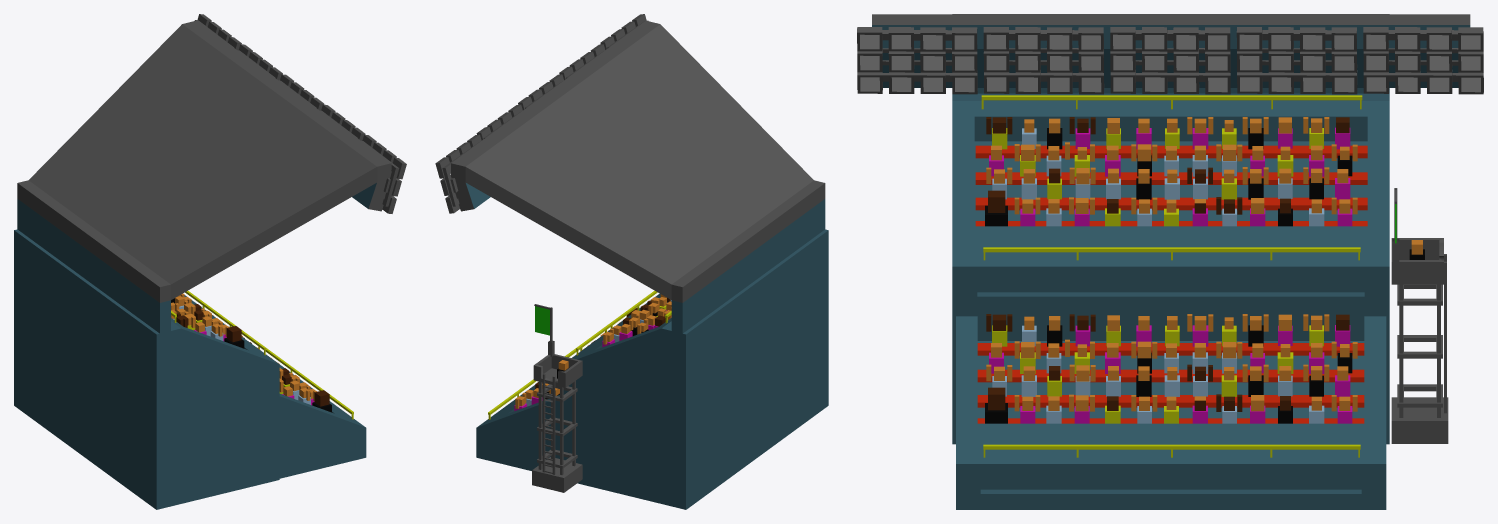
Rendered from Stadium_05.obj.
The picture shows the model from 3 angles, left to right: view 1: azimuth 30°, elevation 25°; view 2: azimuth 150°, elevation 25°; view 3: azimuth 270°, elevation 25°; orthographic projection. The views are drawn at different scales.
Visible parts, largest first — view 1: Stadium_05_Mesh.003; view 2: Stadium_05_Mesh.003; view 3: Stadium_05_Mesh.003.
Boxes of the visible parts, box(x1,y1,x2,y2) form: Stadium_05_Mesh.003: box(14, 14, 406, 509); Stadium_05_Mesh.003: box(435, 14, 828, 509); Stadium_05_Mesh.003: box(857, 14, 1483, 509).
Size of the model in its own units: 1.31 by 1.8 by 2.11.
